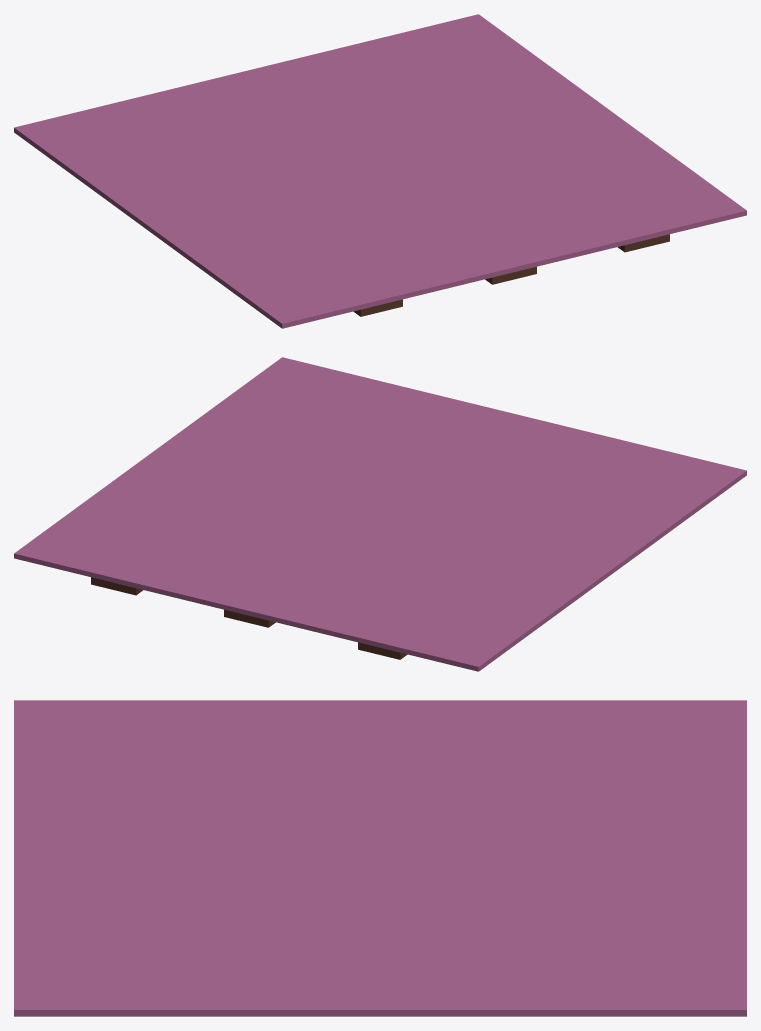
Rendered from ceiling.fbx.
The picture shows the model from 3 angles, top to bottom: view 1: azimuth 30°, elevation 25°; view 2: azimuth 150°, elevation 25°; view 3: azimuth 270°, elevation 25°; orthographic projection. The views are drawn at different scales.
Visible parts, largest first — view 1: Plane; view 2: Plane; view 3: Plane.
Part boxes in pixels (x1,y1,x2,y2): Plane: (14,14,746,328); Plane: (14,357,746,671); Plane: (14,700,746,1016).
Size of the model in its own units: 2 by 0.05 by 2.
